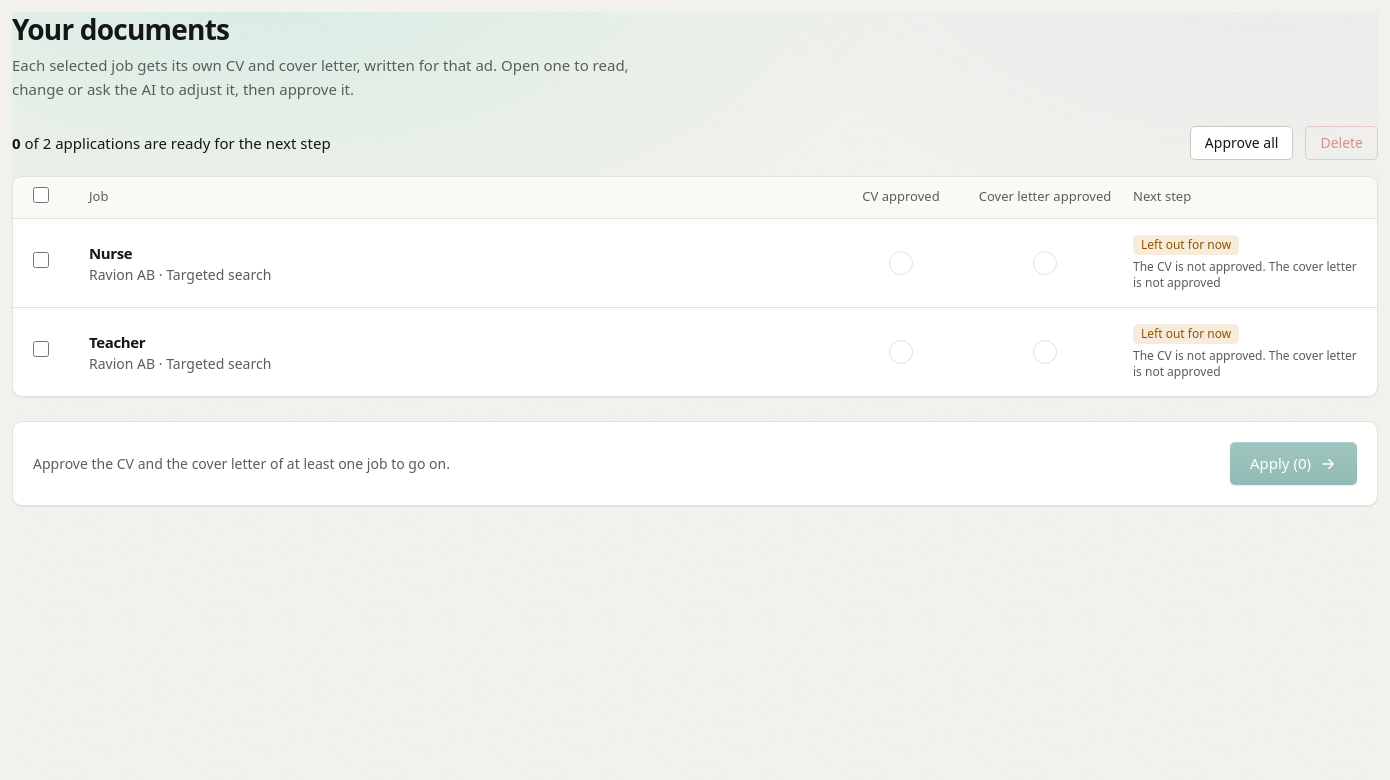
Test: documents overview for the selected jobs › approves everything that can be approved and names the documents that could not be, with the reason
Step 1. Click the button "Approve all" → click(1242, 143), box [1190,126,1293,160]
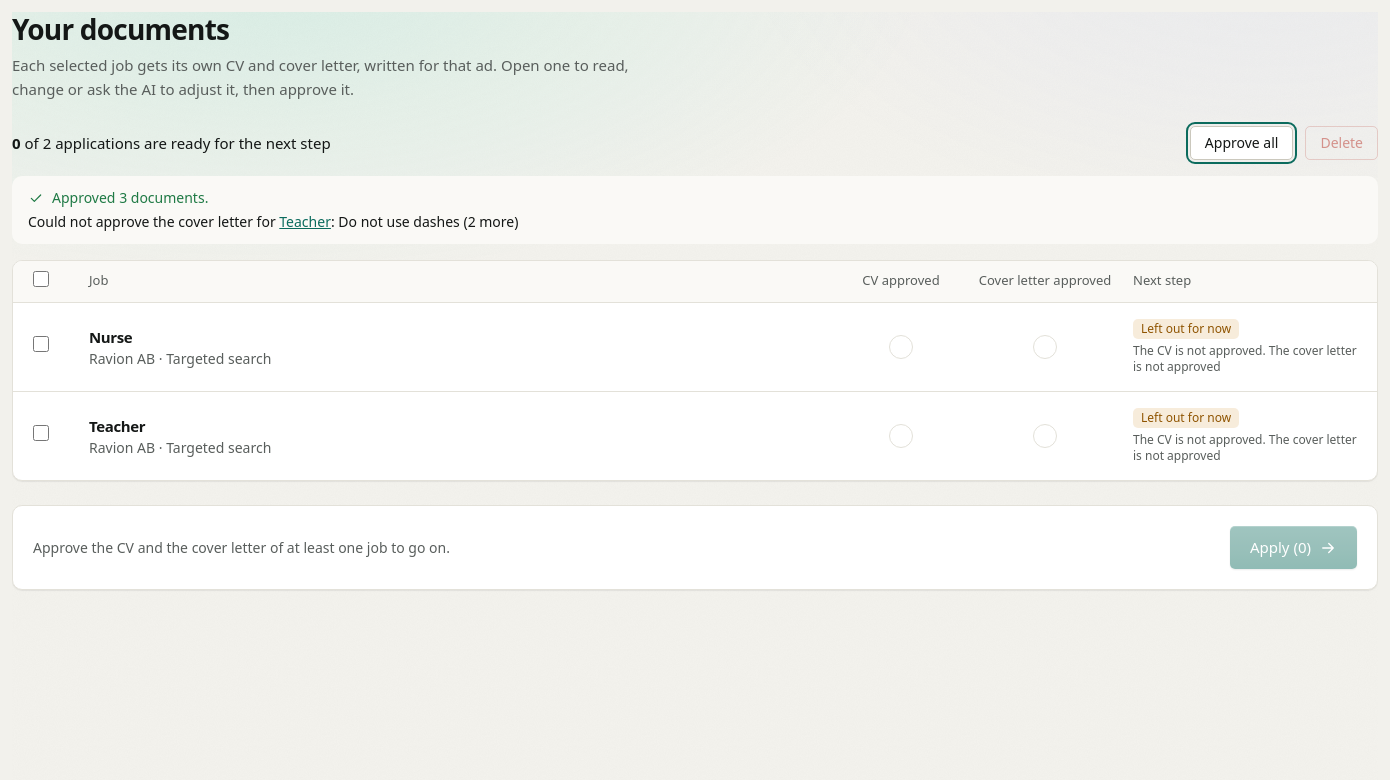
Result: the text "Approved 3 documents." is shown at [28,188,208,207]
